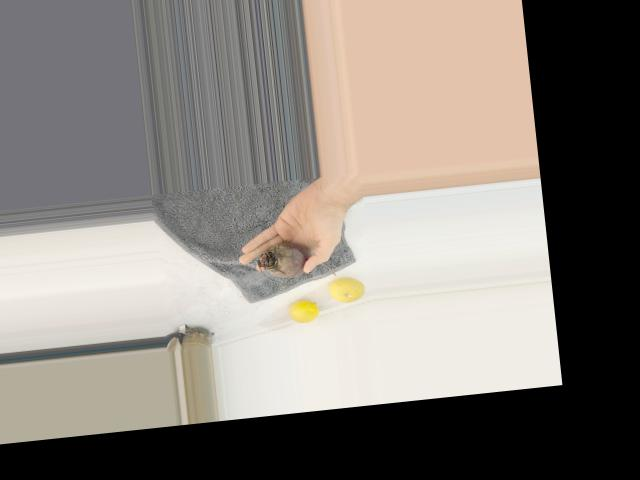beet: (255, 236, 336, 284)
